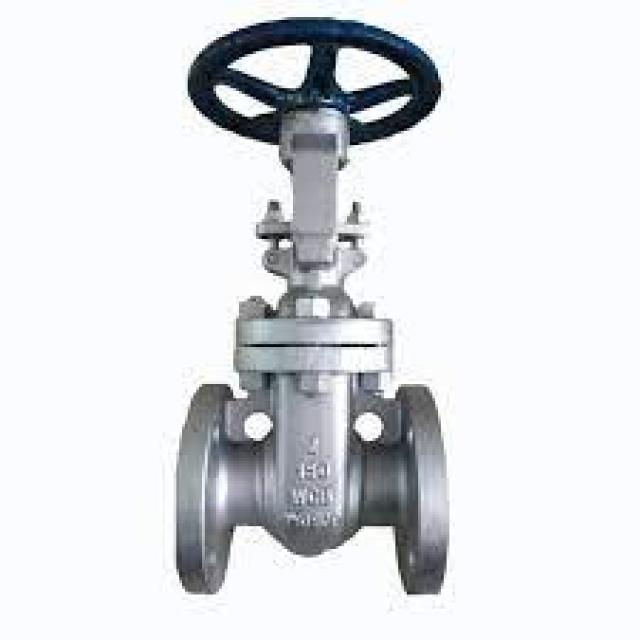Wheel Handle Valve Threaded: (180, 7, 452, 168)
